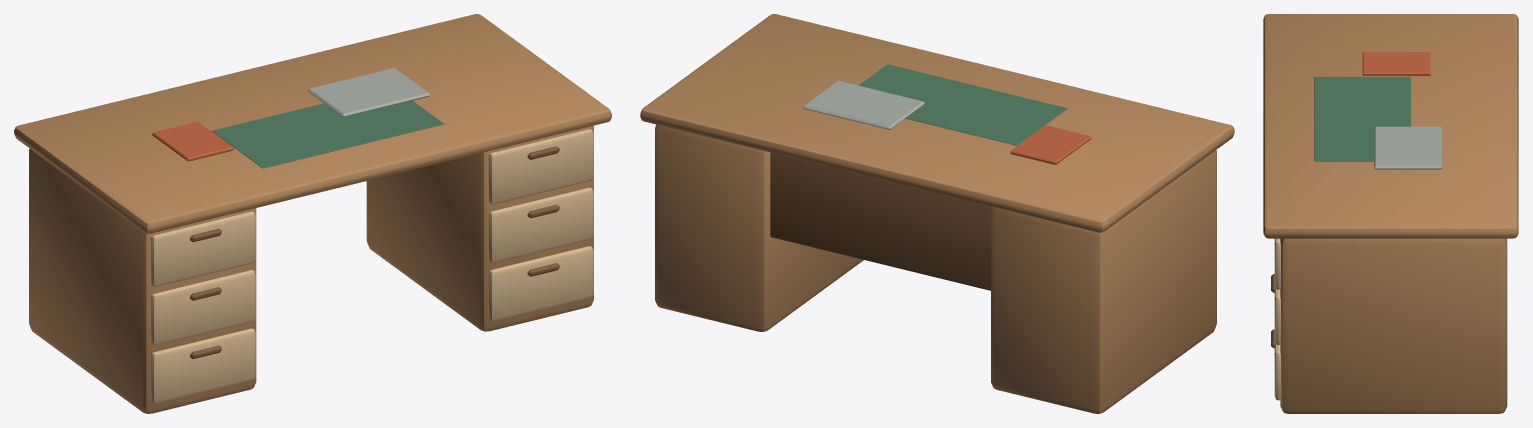
File: desk_exec.glb
3 views of the same model, side by side, from view 1: azimuth 30°, elevation 25°; view 2: azimuth 150°, elevation 25°; view 3: azimuth 270°, elevation 25° (orthographic). The views are drawn at different scales.
Visible parts, largest first — view 1: FURN-desk_exec; view 2: FURN-desk_exec; view 3: FURN-desk_exec.
Part boxes in pixels (<box>): FURN-desk_exec: <box>14,14,611,413</box>; FURN-desk_exec: <box>640,14,1234,413</box>; FURN-desk_exec: <box>1263,14,1518,413</box>.
Size of the model in its own units: 1.8 by 0.764 by 0.9.
